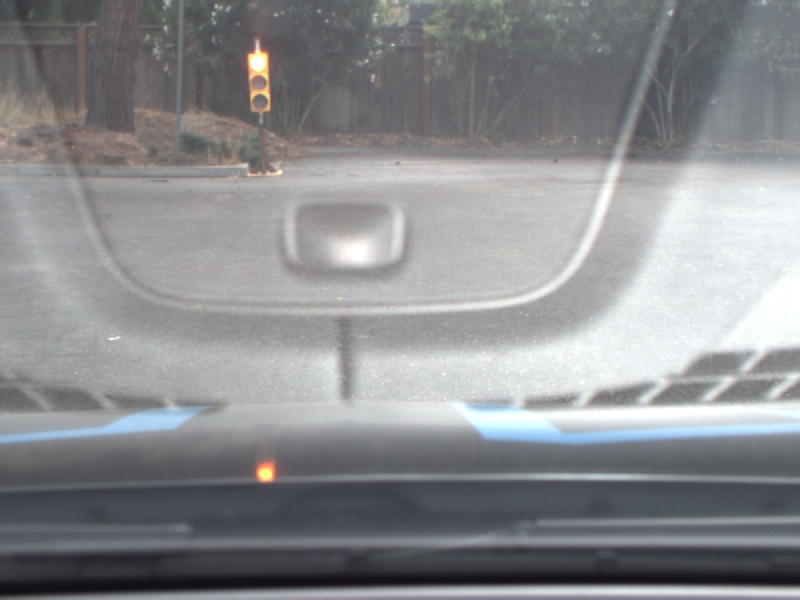red: (245, 47, 272, 113)
